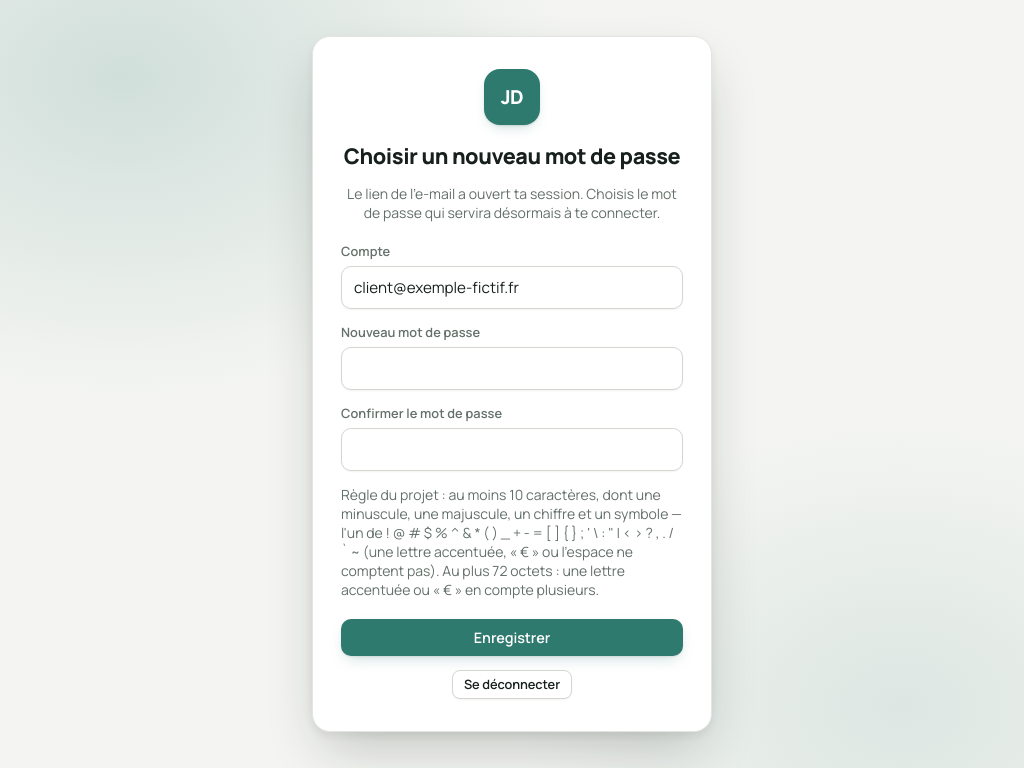
Test case: NouveauMotDePasse › une session expirée se dit, avec le remède
The width and height of the screenshot is (1024, 768).
Type "Un-mot-de-passe-fictif-1" into the password field labelled "Nouveau mot de passe".
click(512, 368); type("Un-mot-de-passe-fictif-1")  # box [341,347,683,390]
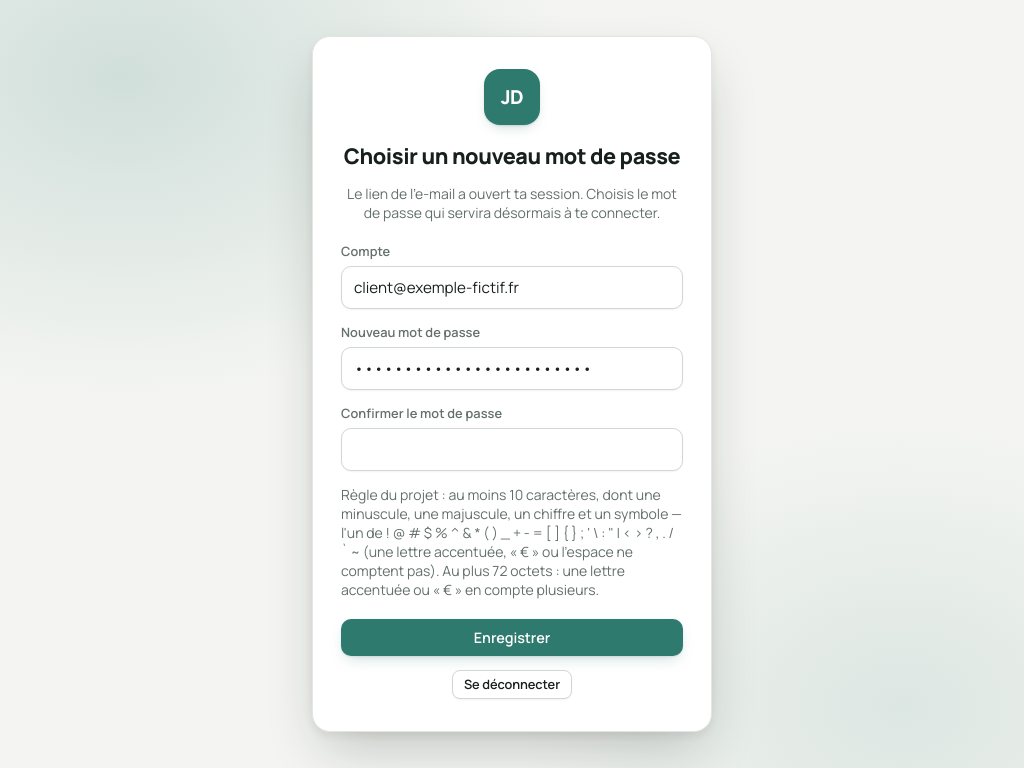
Type "Un-mot-de-passe-fictif-1" into the password field labelled "Confirmer le mot de passe".
click(512, 449); type("Un-mot-de-passe-fictif-1")  # box [341,428,683,471]
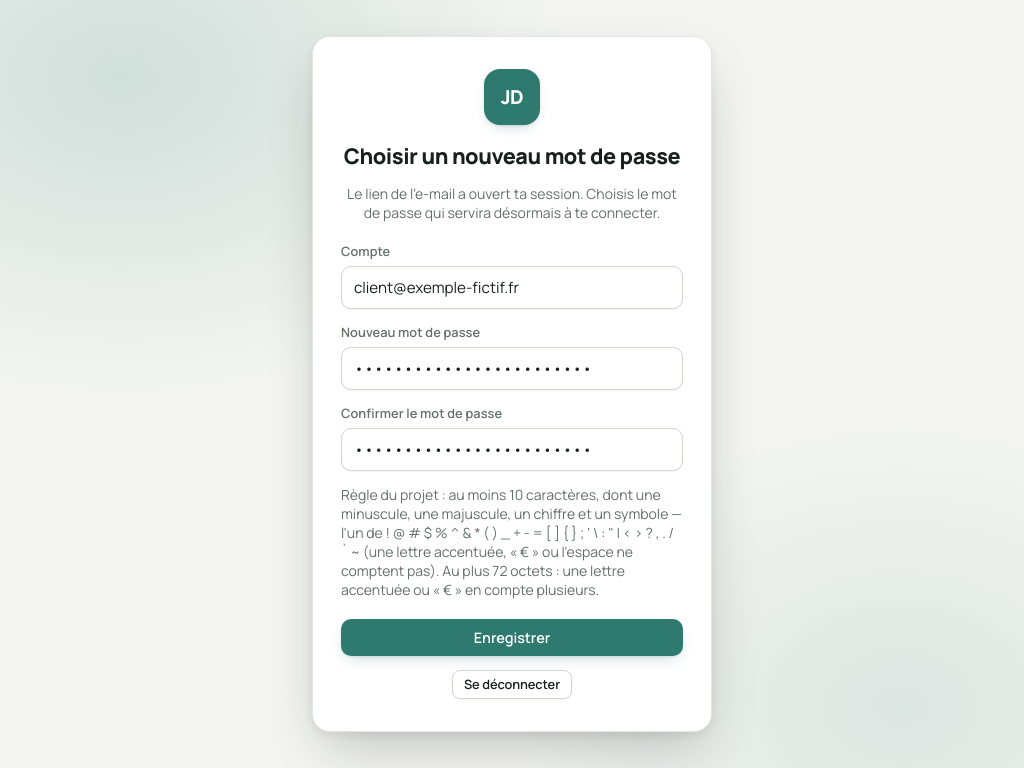
Submit the form named "Enregistrer", box [341,242,683,656]
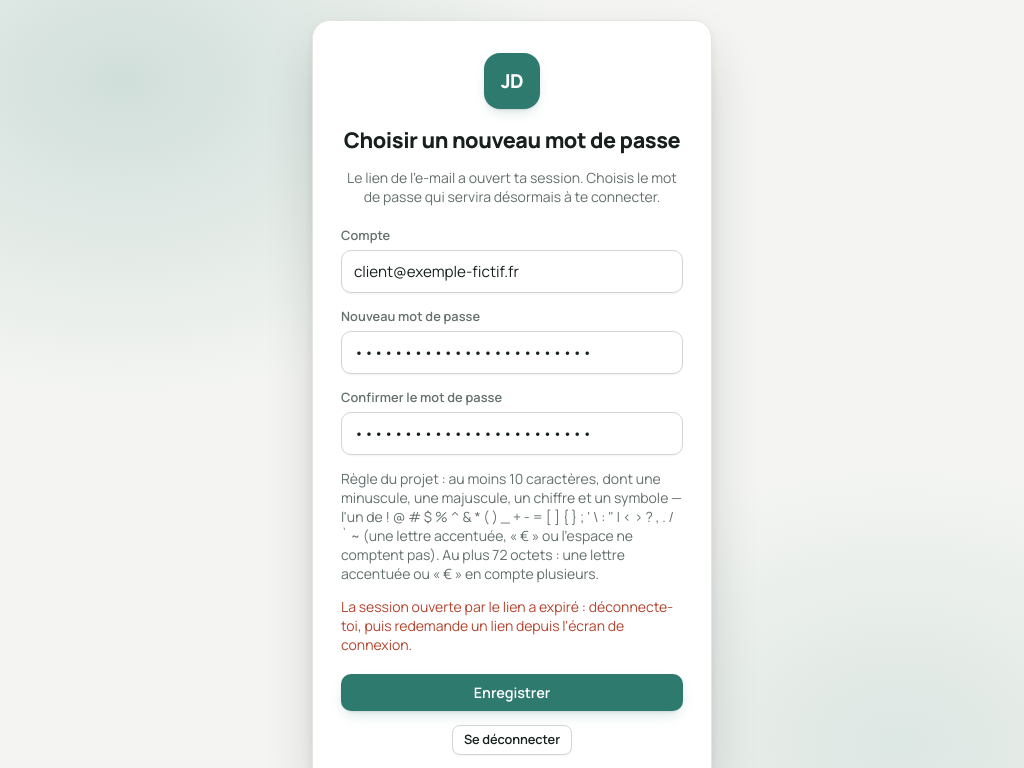
Expected: the message shows "La session ouverte par le lien a expiré : déconnecte-toi, puis redemande un lien depuis l'écran de connexion.", [341,597,673,654]
